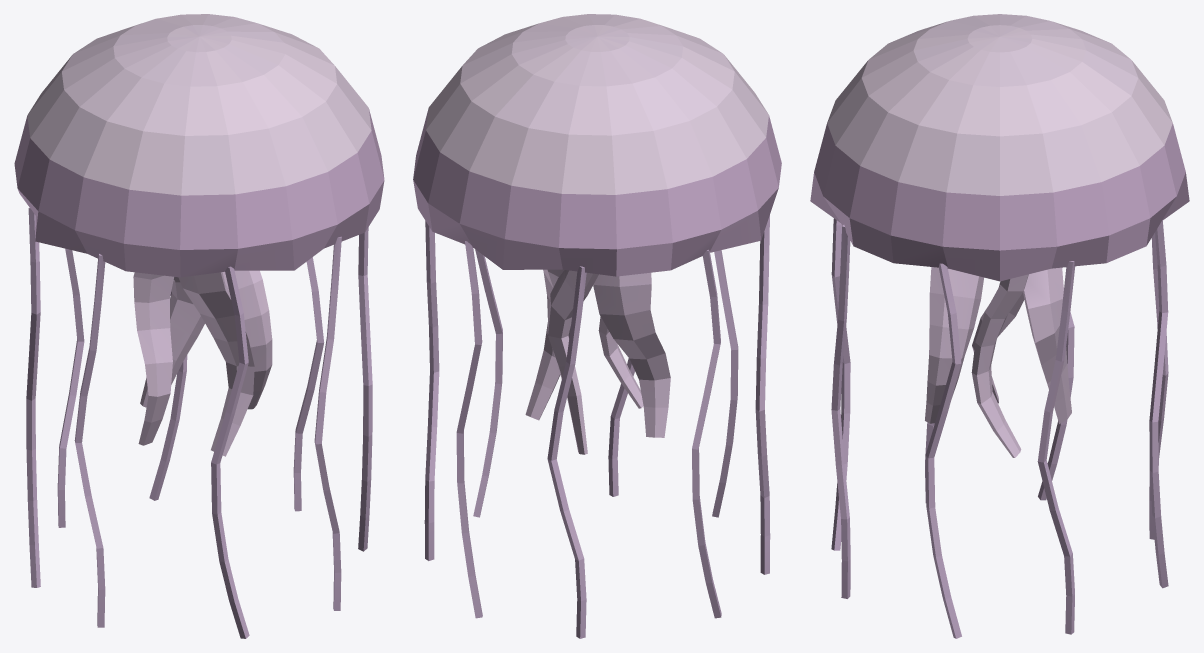
The model's file is jelly.glb.
3 views of the same model, side by side, from view 1: azimuth 30°, elevation 25°; view 2: azimuth 150°, elevation 25°; view 3: azimuth 270°, elevation 25° (orthographic).
Visible parts, largest first — view 1: base, t2_m, t3_m, t0_m, t1_m; view 2: base, t2_m, t1_m, t0_m, t3_m; view 3: base, t0_m, t3_m, t1_m, t2_m.
Part boxes in pixels (x1,y1,x2,y2): base: (14,14,384,277); t2_m: (26,207,173,627); t3_m: (178,236,341,638); t0_m: (222,227,372,551); t1_m: (57,248,204,527); base: (413,14,781,276); t2_m: (593,215,770,618); t1_m: (456,241,598,638); t0_m: (424,221,570,560); t3_m: (598,250,738,517); base: (810,14,1189,281); t0_m: (925,261,1075,638); t3_m: (831,218,983,598); t1_m: (1023,220,1168,588); t2_m: (925,281,1074,502).
Size of the model in its own units: 0.1755 by 0.2716 by 0.1755.
